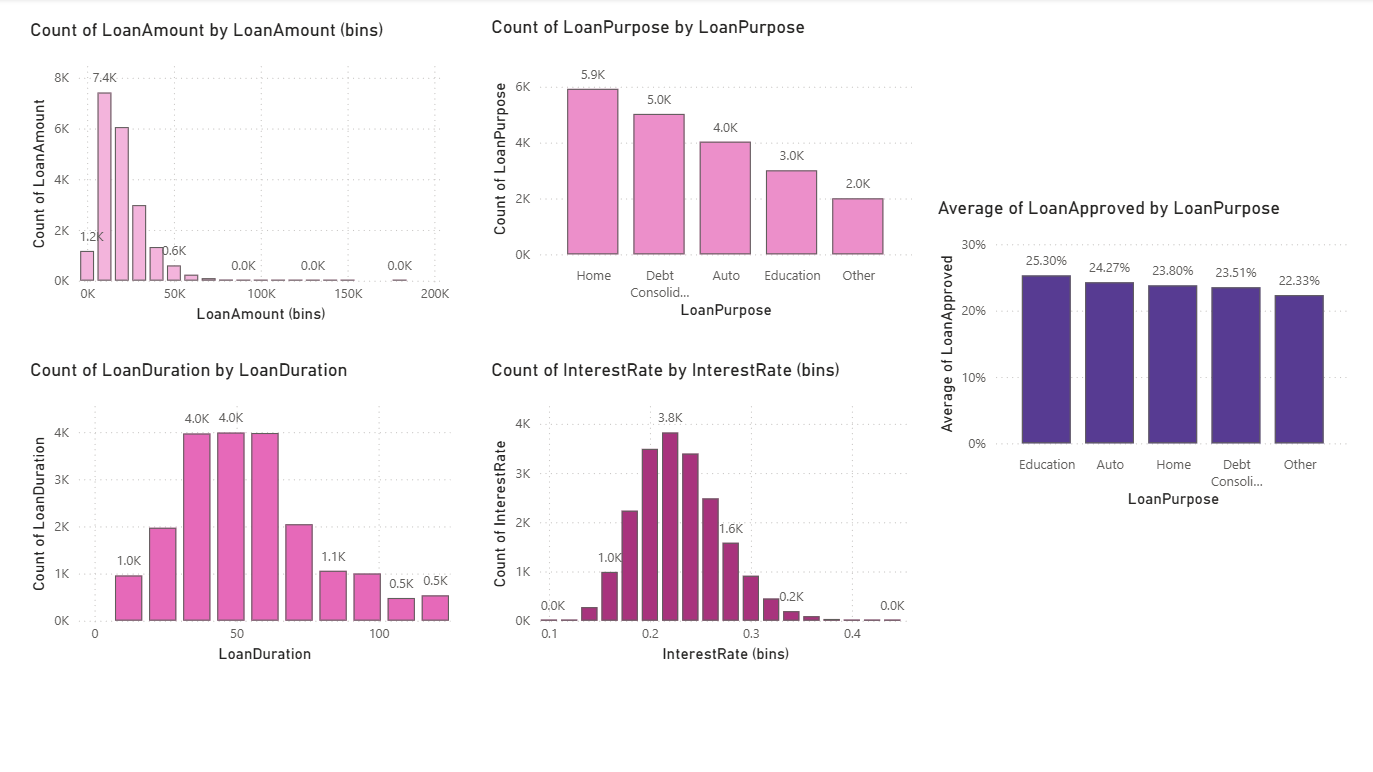

What the dashboard file says about the page in this screenshot:
{"tool":"powerbi","page":{"name":"Loan Portfolio Analysis","canvas":[1280,720],"ordinal":2},"visuals":[{"type":"clusteredColumnChart","fields":{"Category":["loan_data_with_risk.LoanAmount (bins)"],"Y":["CountNonNull(loan_data_with_risk.LoanAmount)"]},"box":[23.3,19.8,401.2,287],"z":0},{"type":"clusteredColumnChart","fields":{"Category":["loan_data_with_risk.LoanPurpose"],"Y":["CountNonNull(loan_data_with_risk.LoanPurpose)"]},"box":[452.3,16.3,401,287],"z":1000},{"type":"clusteredColumnChart","fields":{"Category":["loan_data_with_risk.LoanDuration"],"Y":["CountNonNull(loan_data_with_risk.LoanDuration)"]},"box":[23.3,336,401,287],"z":2000},{"type":"clusteredColumnChart","fields":{"Y":["CountNonNull(loan_data_with_risk.InterestRate)"],"Category":["loan_data_with_risk.InterestRate (bins)"]},"box":[452.3,336,401,287],"z":3000},{"type":"clusteredColumnChart","fields":{"Category":["loan_data_with_risk.LoanPurpose"],"Y":["Avg(loan_data_with_risk.LoanApproved)"]},"box":[867.4,184.9,394.2,294.2],"z":4000}]}

Visuals, with their boxes in screenshot pixels (x1, y1, x2, y2), scaled from the page's 1280x720 canvas onto the 1373x772 screenshot:
clusteredColumnChart - loan_data_with_risk.LoanAmount (bins) x CountNonNull(loan_data_with_risk.LoanAmount): [25, 21, 455, 329]
clusteredColumnChart - loan_data_with_risk.LoanPurpose x CountNonNull(loan_data_with_risk.LoanPurpose): [485, 17, 915, 325]
clusteredColumnChart - loan_data_with_risk.LoanDuration x CountNonNull(loan_data_with_risk.LoanDuration): [25, 360, 455, 668]
clusteredColumnChart - CountNonNull(loan_data_with_risk.InterestRate) x loan_data_with_risk.InterestRate (bins): [485, 360, 915, 668]
clusteredColumnChart - loan_data_with_risk.LoanPurpose x Avg(loan_data_with_risk.LoanApproved): [930, 198, 1353, 514]
